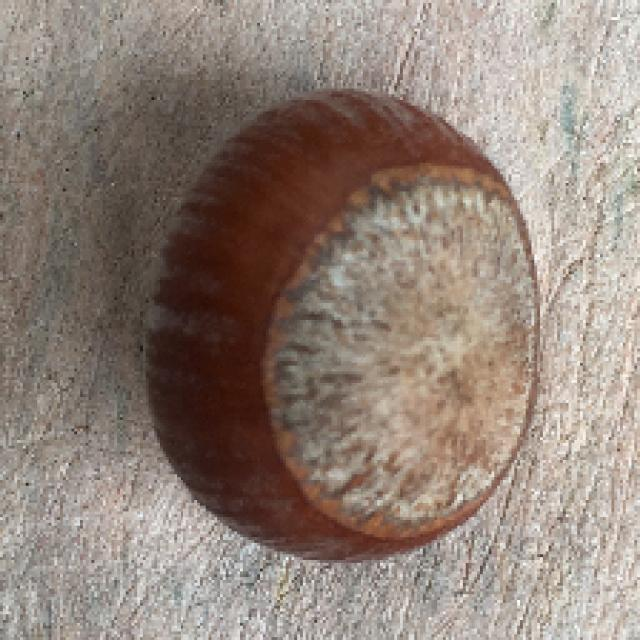qualityHazelnut: (143, 88, 542, 566)
